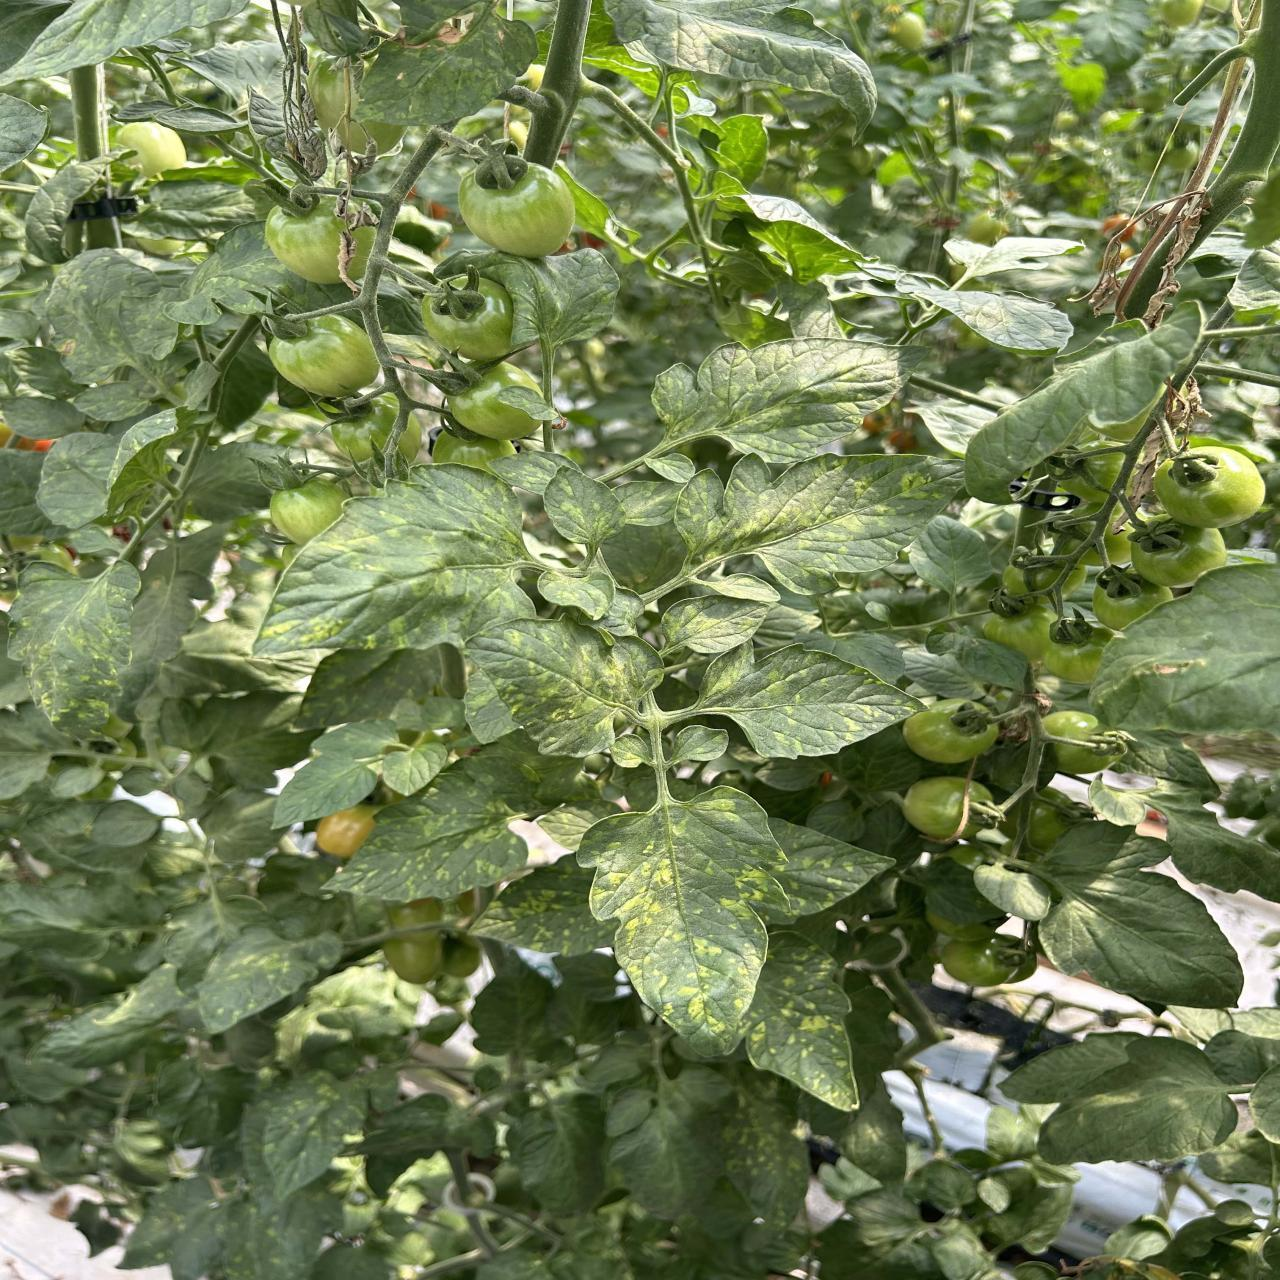Rugose leaf: (576, 788, 791, 1055), (253, 465, 540, 656), (692, 457, 961, 591), (652, 338, 904, 462), (324, 756, 532, 901), (685, 641, 919, 758), (468, 618, 662, 757), (743, 932, 858, 1110), (240, 1069, 370, 1201), (195, 927, 340, 1034), (769, 817, 894, 917), (543, 467, 626, 553)
Rugose tomato: (971, 782, 992, 802)
